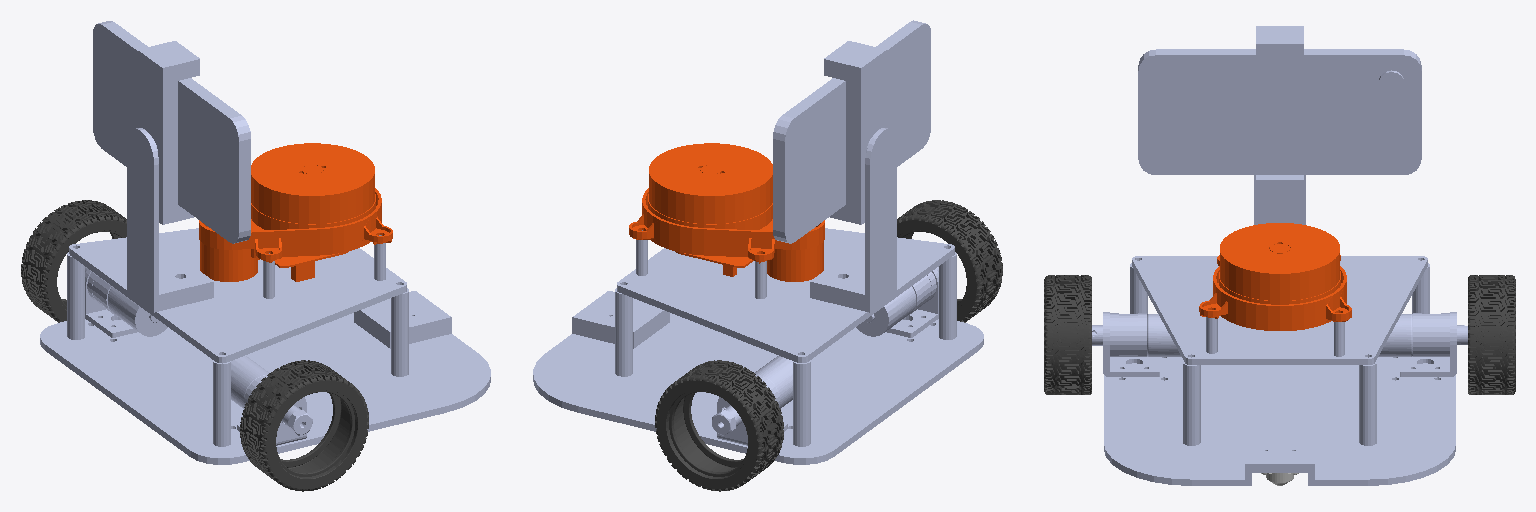
URDF robot description (xebamnguoi):
<?xml version="1.0" encoding="utf-8"?>
<!-- This URDF was automatically created by SolidWorks to URDF Exporter! Originally created by Stephen Brawner (brawner@gmail.com) 
     Commit Version: 1.6.0-4-g7f85cfe  Build Version: 1.6.7995.38578
     For more information, please see http://wiki.ros.org/sw_urdf_exporter -->
<robot
  name="xebamnguoi">
  <link
    name="base_link">
    <inertial>
      <origin
        xyz="-0.0190475214962664 -4.55016378917567E-06 0.0368317962801807"
        rpy="0 0 0" />
      <mass
        value="0.365389251377734" />
      <inertia
        ixx="0.000691360411892132"
        ixy="-5.76483289871114E-09"
        ixz="-7.89720772296053E-07"
        iyy="0.000691943837689035"
        iyz="8.70144192076451E-11"
        izz="0.00126224267400349" />
    </inertial>
    <visual>
      <origin
        xyz="0 0 0"
        rpy="0 0 0" />
      <geometry>
        <mesh
          filename="package://robot_autonomous_yolo_slam_nav2/meshes/base_link.STL" />
      </geometry>
      <material
          name="base_mat">
        <color
          rgba="0.792156862745098 0.819607843137255 0.933333333333333 1" />
      </material>
    </visual>
    <collision>
      <origin
        xyz="0 0 0"
        rpy="0 0 0" />
      <geometry>
        <mesh
          filename="package://robot_autonomous_yolo_slam_nav2/meshes/base_link.STL" />
      </geometry>
    </collision>
  </link>
  <link
    name="imu_link">
    <inertial>
      <origin
        xyz="-0.00388151540702965 0.00118654573706348 0.000380741840009635"
        rpy="0 0 0" />
      <mass
        value="0.0936889950727146" />
      <inertia
        ixx="0.000242651268122166"
        ixy="-1.09123323555147E-07"
        ixz="-3.54625552947635E-08"
        iyy="4.39706112834359E-05"
        iyz="-4.57756453584051E-07"
        izz="0.000199644343881774" />
    </inertial>
    <visual>
      <origin
        xyz="0 0 0"
        rpy="0 0 0" />
      <geometry>
        <mesh
          filename="package://robot_autonomous_yolo_slam_nav2/meshes/imu_link.STL" />
      </geometry>
      <material
          name="imu_mat">
        <color
          rgba="0.792156862745098 0.819607843137255 0.933333333333333 1" />
      </material>
    </visual>
    <collision>
      <origin
        xyz="0 0 0"
        rpy="0 0 0" />
      <geometry>
        <mesh
          filename="package://robot_autonomous_yolo_slam_nav2/meshes/imu_link.STL" />
      </geometry>
    </collision>
  </link>
  <joint
    name="imu_link"
    type="fixed">
    <origin
      xyz="-0.057369 -0.00094794 0.15614"
      rpy="0 0 0" />
    <parent
      link="base_link" />
    <child
      link="imu_link" />
    <axis
      xyz="0 0 0" />
  </joint>
  <link
    name="lidar_link">
    <inertial>
      <origin
        xyz="-0.0078695329611938 -9.05617813826004E-05 -0.0174678278711848"
        rpy="0 0 0" />
      <mass
        value="0.116689056224792" />
      <inertia
        ixx="3.64216717253483E-05"
        ixy="2.26809118841235E-10"
        ixz="1.95087409736938E-20"
        iyy="3.61792018327501E-05"
        iyz="-5.00027438455584E-21"
        izz="6.07845987375864E-05" />
    </inertial>
    <visual>
      <origin
        xyz="0 0 0"
        rpy="0 0 0" />
      <geometry>
        <mesh
          filename="package://robot_autonomous_yolo_slam_nav2/meshes/lidar_link.STL" />
      </geometry>
      <material
          name="lidar_mat">
        <color
          rgba="0.996078431372549 0.396078431372549 0.101960784313725 1" />
      </material>
    </visual>
    <collision>
      <origin
        xyz="0 0 0"
        rpy="0 0 0" />
      <geometry>
        <mesh
          filename="package://robot_autonomous_yolo_slam_nav2/meshes/lidar_link.STL" />
      </geometry>
    </collision>
  </link>
  <joint
    name="lidar_link"
    type="fixed">
    <origin
      xyz="0.027862 2.6587E-05 0.113"
      rpy="0 0 0" />
    <parent
      link="base_link" />
    <child
      link="lidar_link" />
    <axis
      xyz="0 0 1" />
  </joint>
  <link
    name="caster_link">
    <inertial>
      <origin
        xyz="5.74224770399923E-07 1.68246789025717E-06 0.00270298652080386"
        rpy="0 0 0" />
      <mass
        value="0.00220618814328091" />
      <inertia
        ixx="5.95362537277258E-08"
        ixy="-2.94432803285007E-10"
        ixz="3.77775132588136E-12"
        iyy="4.28800244629685E-08"
        iyz="1.72169291876825E-11"
        izz="7.36203699874543E-08" />
    </inertial>
    <visual>
      <origin
        xyz="0 0 0"
        rpy="0 0 0" />
      <geometry>
        <mesh
          filename="package://robot_autonomous_yolo_slam_nav2/meshes/caster_link.STL" />
      </geometry>
      <material
          name="caster_mat">
        <color
          rgba="0.752941176470588 0.752941176470588 0.752941176470588 1" />
      </material>
    </visual>
    <collision>
      <origin
        xyz="0 0 0"
        rpy="0 0 0" />
      <geometry>
        <mesh
          filename="package://robot_autonomous_yolo_slam_nav2/meshes/caster_link.STL" />
      </geometry>
    </collision>
  </link>
  <joint
    name="caster_link"
    type="fixed">
    <origin
      xyz="0.086924 2.6477E-05 -0.0014569"
      rpy="0 0 0" />
    <parent
      link="base_link" />
    <child
      link="caster_link" />
    <axis
      xyz="0 0 0" />
  </joint>
  <link
    name="right_link">
    <inertial>
      <origin
        xyz="-5.11826622751066E-11 0.000749999989378108 1.80011006101211E-11"
        rpy="0 0 0" />
      <mass
        value="0.0218250713775751" />
      <inertia
        ixx="1.17811435096985E-05"
        ixy="-9.38727979633561E-16"
        ixz="8.05319572186328E-16"
        iyy="2.00953635519906E-05"
        iyz="-2.56374686595957E-15"
        izz="1.17811435117345E-05" />
    </inertial>
    <visual>
      <origin
        xyz="0 0 0"
        rpy="0 0 0" />
      <geometry>
        <mesh
          filename="package://robot_autonomous_yolo_slam_nav2/meshes/right_link.STL" />
      </geometry>
      <material
          name="right_wheel_mat">
        <color
          rgba="0.333333333333333 0.333333333333333 0.333333333333333 1" />
      </material>
    </visual>
    <collision>
      <origin
        xyz="0 0 0"
        rpy="0 0 0" />
      <geometry>
        <mesh
          filename="package://robot_autonomous_yolo_slam_nav2/meshes/right_link.STL" />
      </geometry>
    </collision>
  </link>
  <joint
    name="right_link"
    type="continuous">
    <origin
      xyz="-0.046619 -0.11925 0.0238"
      rpy="0 0 0" />
    <parent
      link="base_link" />
     <child
       link="right_link" />
    <axis
      xyz="0 1 0" />
    <limit
      effort="0.196"
      velocity="22.51" />
  </joint>
  <link
    name="left_link">
    <inertial>
      <origin
        xyz="5.28829549595322E-11 -0.000749999954111596 -1.1051937143236E-11"
        rpy="0 0 0" />
      <mass
        value="0.0218250713775745" />
      <inertia
        ixx="1.17811435095239E-05"
        ixy="5.00054824985152E-16"
        ixz="5.12896173404843E-16"
        iyy="2.00953635519902E-05"
        iyz="2.65804582962321E-15"
        izz="1.17811435119086E-05" />
    </inertial>
    <visual>
      <origin
        xyz="0 0 0"
        rpy="0 0 0" />
      <geometry>
        <mesh
          filename="package://robot_autonomous_yolo_slam_nav2/meshes/left_link.STL" />
      </geometry>
      <material
          name="left_wheel_mat">
        <color
          rgba="0.333333333333333 0.333333333333333 0.333333333333333 1" />
      </material>
    </visual>
    <collision>
      <origin
        xyz="0 0 0"
        rpy="0 0 0" />
      <geometry>
        <mesh
          filename="package://robot_autonomous_yolo_slam_nav2/meshes/left_link.STL" />
      </geometry>
    </collision>
  </link>
  <joint
    name="left_link"
    type="continuous">
    <origin
      xyz="-0.046719 0.11925 0.0238"
      rpy="0 0 0" />
    <parent
      link="base_link" />
     <child
       link="left_link" />
    <axis
      xyz="0 -1 0" />
    <limit
      effort="0.196"
      velocity="22.51" />
  </joint>
  <link
    name="base_footprint">
  </link>
  <joint
    name="base_footprint_joint"
    type="fixed">
    <origin
      xyz="0.04667 0 0.01"
      rpy="0 0 0" />
    <parent
      link="base_footprint" />
    <child
      link="base_link" />
  </joint>
</robot>

--- Facts derived from the render (not from the file) ---
The picture shows the robot from 3 angles, left to right: view 1: azimuth 30°, elevation 25°; view 2: azimuth 150°, elevation 25°; view 3: azimuth 270°, elevation 25°; orthographic projection.
Robot: xebamnguoi — 7 links, 6 joints (2 continuous, 4 fixed); root link base_footprint; default pose: all joints at 0.
Visible links, largest first — view 1: base_link, lidar_link, imu_link, right_link, left_link; view 2: base_link, lidar_link, imu_link, left_link, right_link; view 3: base_link, imu_link, lidar_link, left_link, right_link.
Boxes of the visible links, x1,y1,x2,y2 form: base_link: (40,41,490,464); lidar_link: (199,143,392,281); imu_link: (93,21,250,243); right_link: (240,360,368,491); left_link: (21,200,126,322); base_link: (533,41,983,464); lidar_link: (629,143,824,281); imu_link: (773,20,930,243); left_link: (655,360,783,491); right_link: (897,200,1002,322); base_link: (1092,26,1467,485); imu_link: (1138,49,1421,174); lidar_link: (1199,223,1351,330); left_link: (1468,275,1515,394); right_link: (1044,275,1091,394).
Size in the robot's own frame: 0.2 by 0.267 by 0.2142 metres.
Meshes: 6 distinct files referenced, 6 mesh visuals loaded (6 binary STL).
